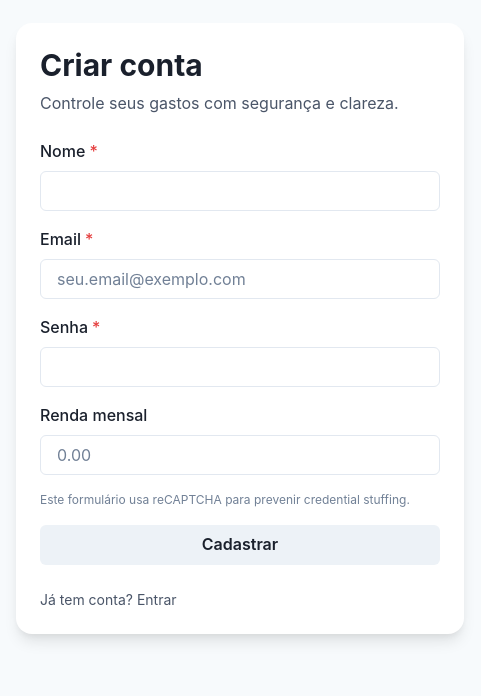
Scenario: AuthForm › shows friendly registration errors
Step 1. Type "Maria" into the field labelled "Nome*" → (240,190), box [40,170,440,210]
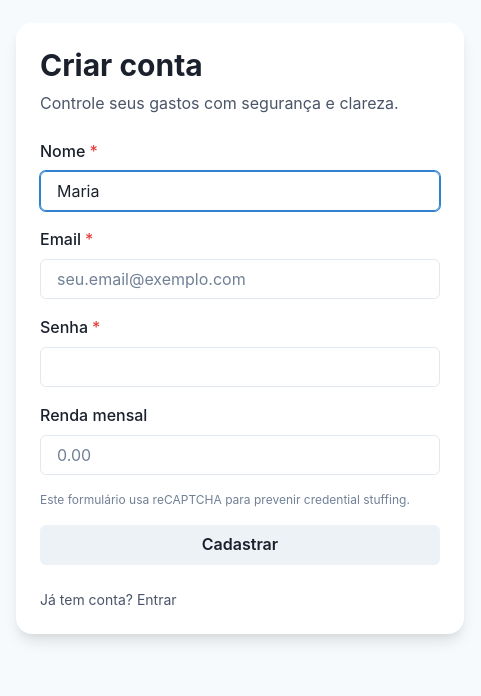
Step 2. Type "maria@example.com" into the field labelled "Email*" → (240,278), box [40,258,440,298]
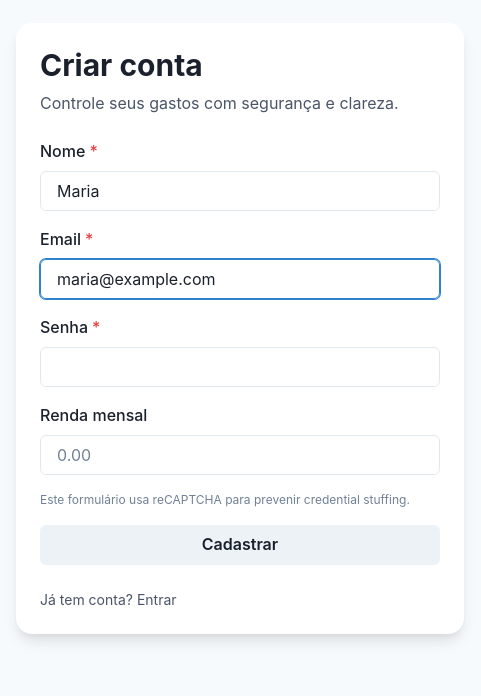
Step 3. Type "password123" into the password field labelled "Senha*" → (240,366), box [40,346,440,386]
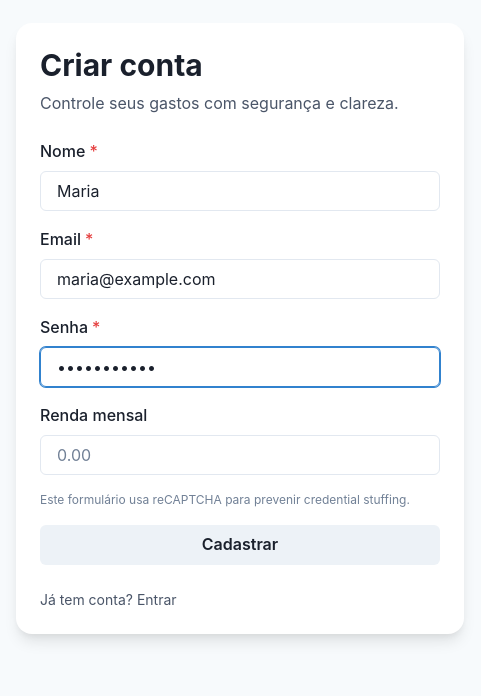
Step 4. Click the button "Cadastrar" → (240,544), box [40,524,440,564]
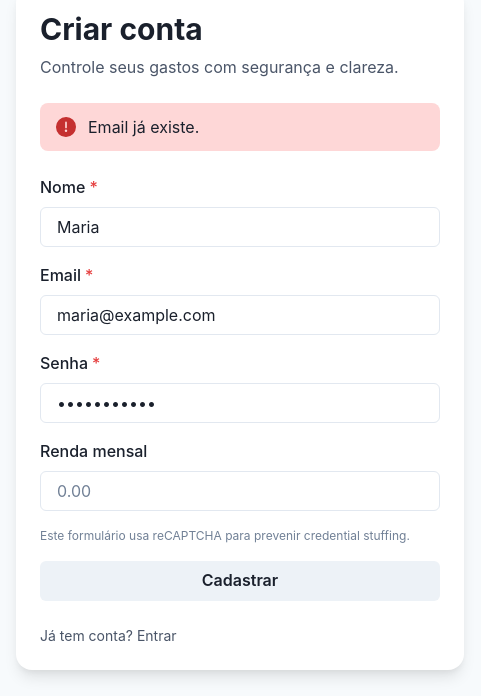
Now the text "Email já existe." is shown, box [40,102,440,150]
